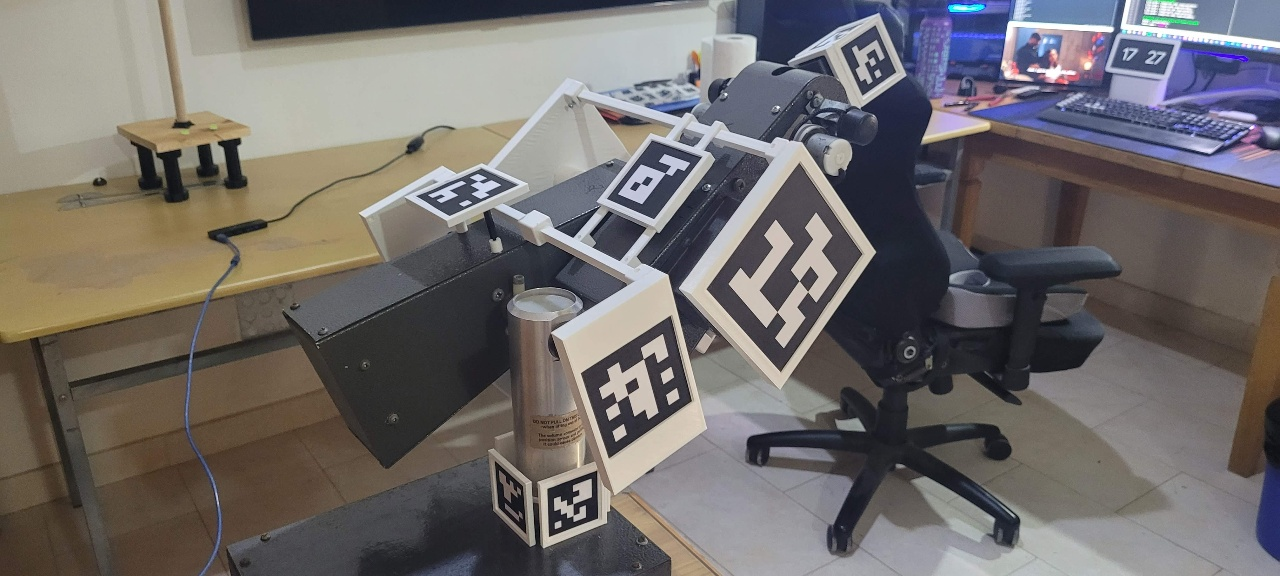Robot: (280, 13, 909, 551)
